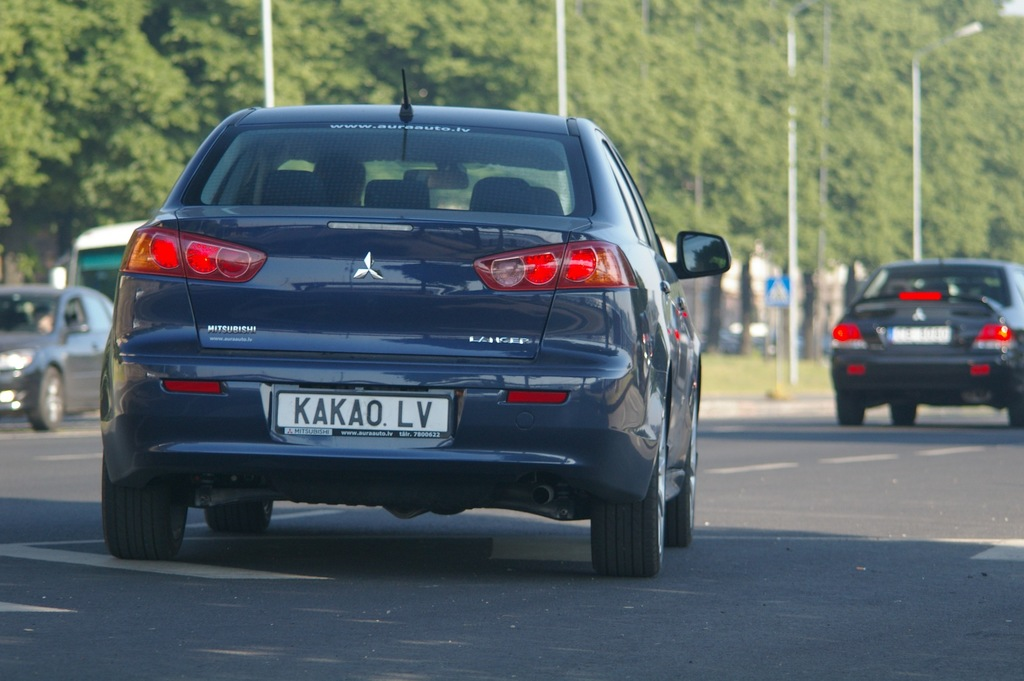license plate: (277, 392, 450, 436)
